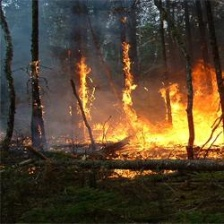fire: (76, 52, 224, 167)
